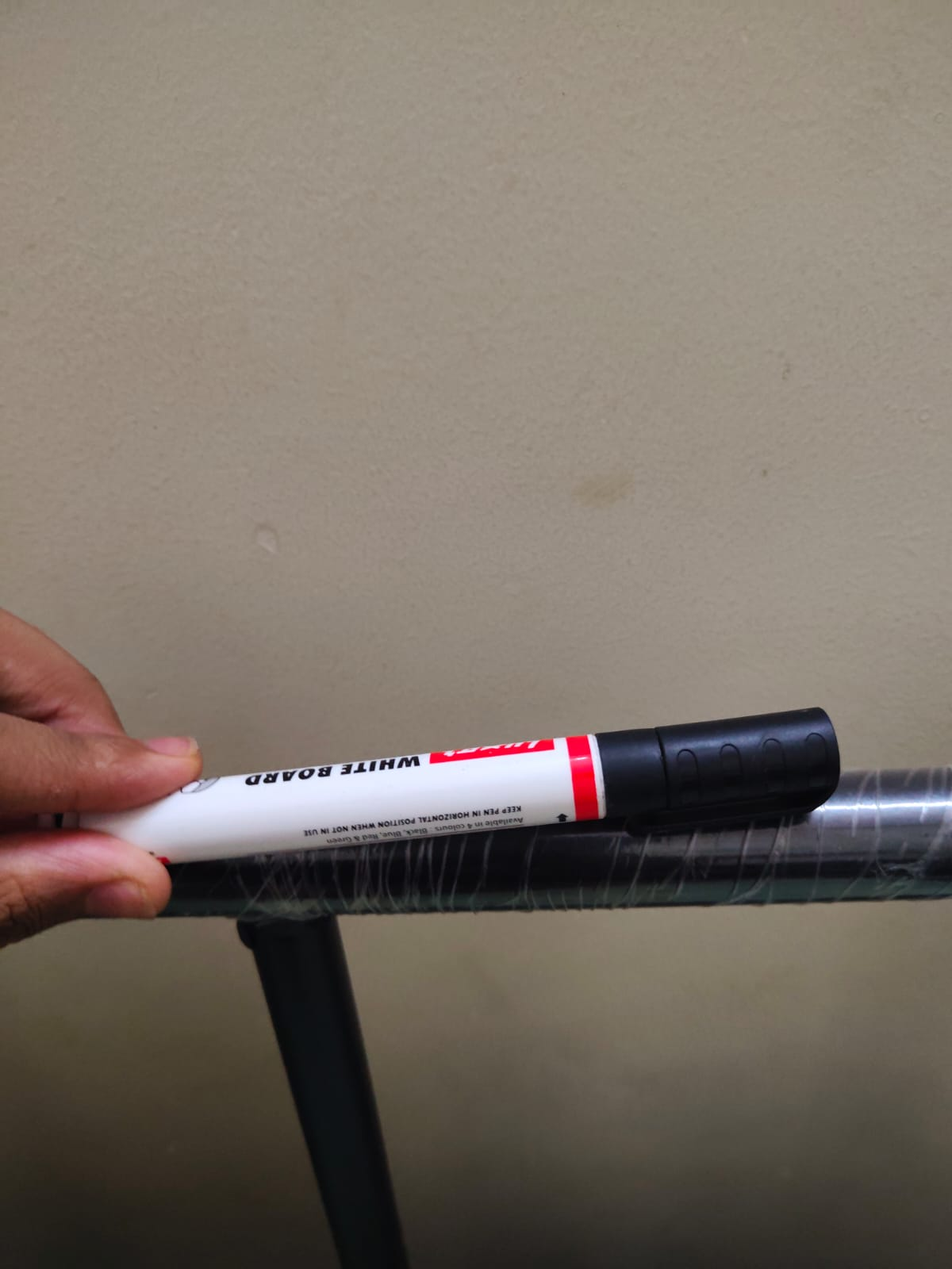case: (60, 695, 860, 845)
